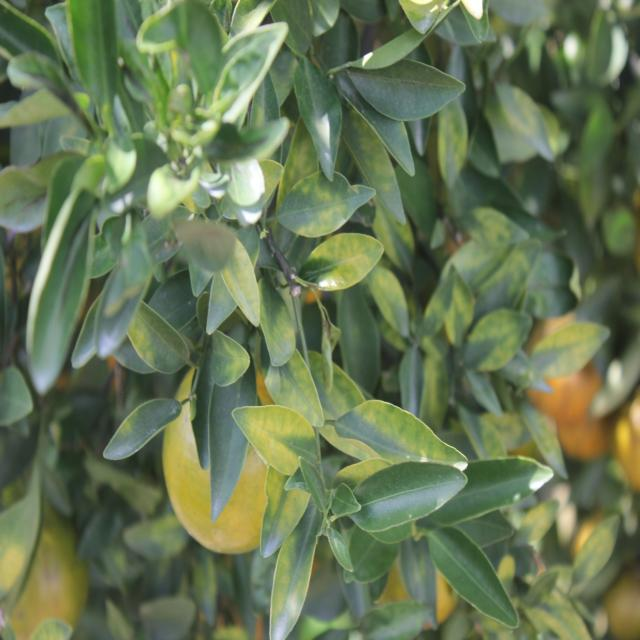greening: (336, 393, 447, 469), (238, 402, 308, 470), (303, 232, 385, 290), (224, 248, 264, 335)
